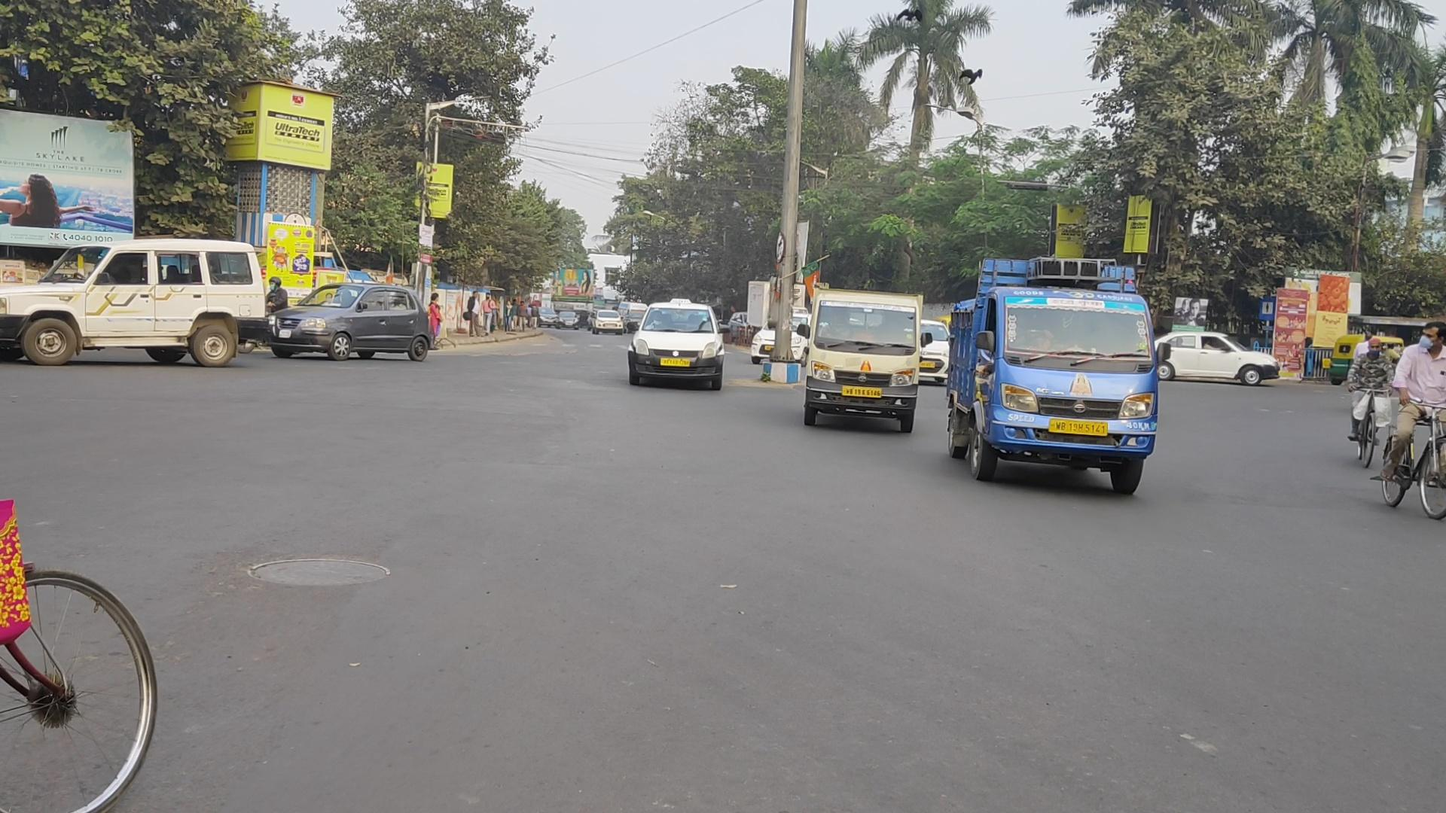Auto: (1327, 333, 1408, 388)
bike: (1372, 322, 1446, 521), (1346, 338, 1396, 469)
car: (2, 236, 269, 369), (265, 282, 432, 362), (628, 297, 731, 391), (1151, 330, 1280, 386), (749, 309, 814, 364)
van: (946, 257, 1159, 495), (803, 282, 932, 434)
